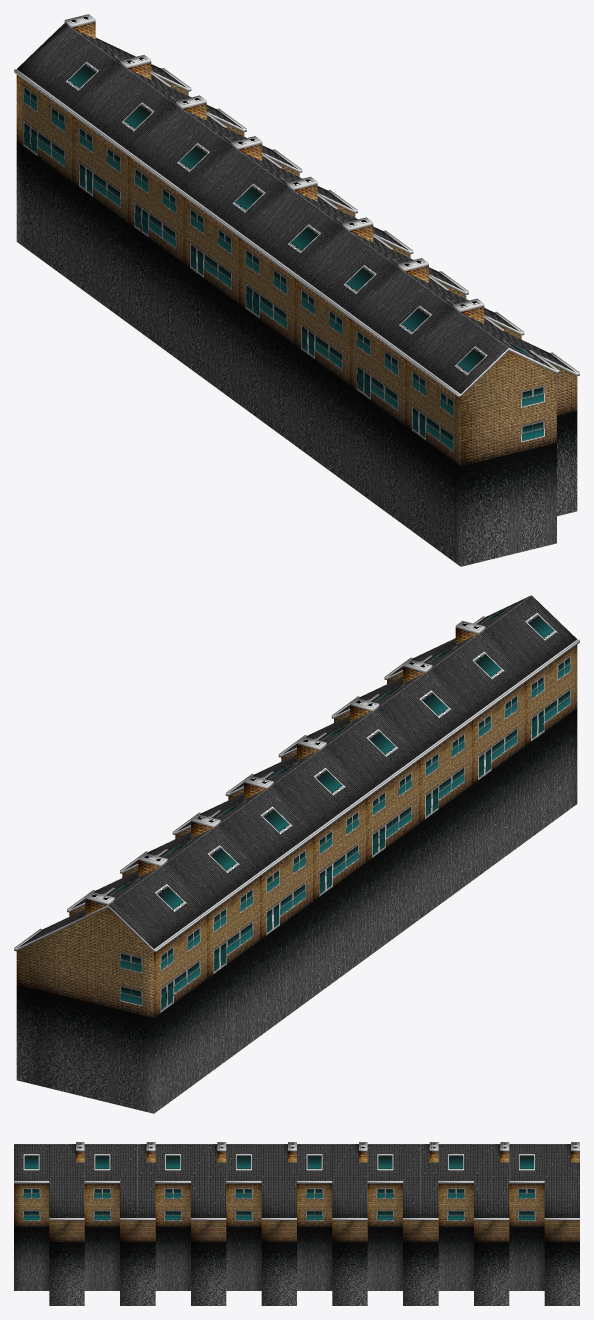
File: doorzon_mod3_4b.fbx
3 renders of one model, top to bottom at view 1: azimuth 30°, elevation 25°; view 2: azimuth 150°, elevation 25°; view 3: azimuth 270°, elevation 25°, orthographic. The views are drawn at different scales.
Parts seen in each view (by area): view 1: doorzon_mod3_4b; view 2: doorzon_mod3_4b; view 3: doorzon_mod3_4b.
Part boxes in pixels (left/top/right/bottom): doorzon_mod3_4b: left=14, top=14, right=579, bottom=566; doorzon_mod3_4b: left=14, top=595, right=579, bottom=1113; doorzon_mod3_4b: left=14, top=1142, right=579, bottom=1305.
Size of the model in its own units: 1400 by 1879 by 7200.
